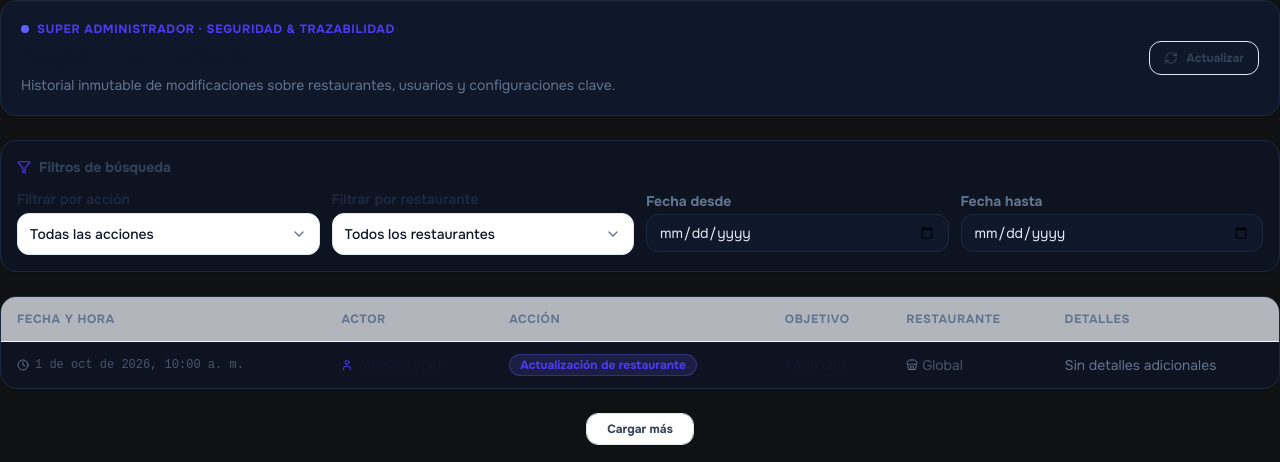
Test: AuditLogScreen server state (infinite query) › 'Actualizar' reloads from the first page only
Click the button "Cargar más".
click(640, 429)  # box [586, 413, 694, 445]
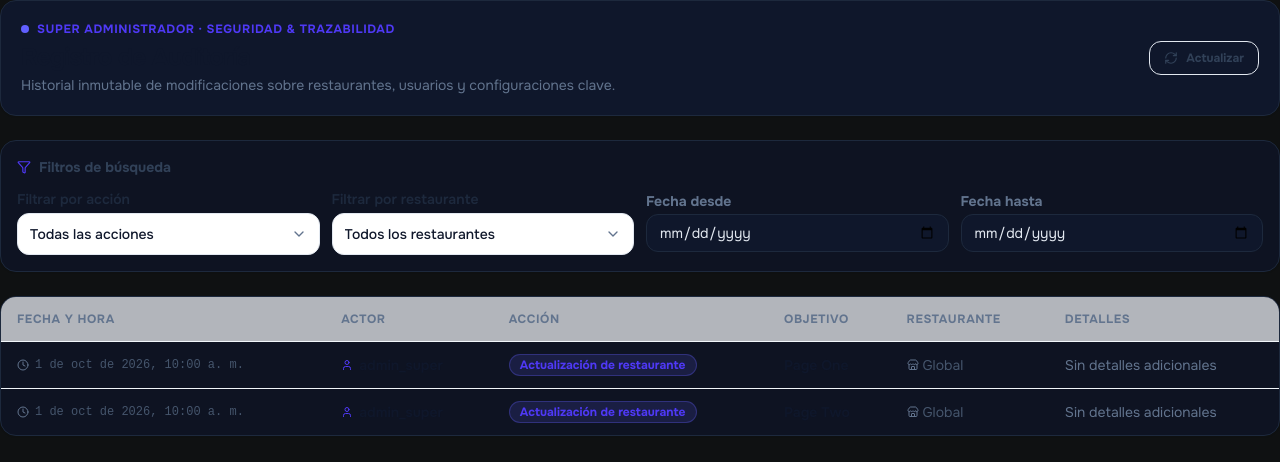
Click the button "Actualizar".
click(1204, 58)  # box [1149, 41, 1259, 75]
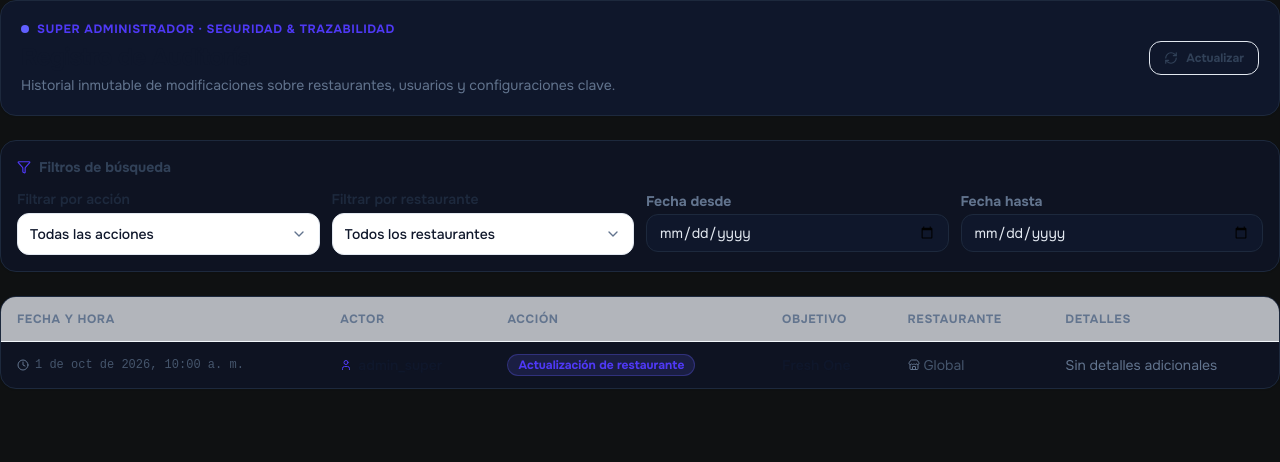
Check: the text "Page Two" is gone
